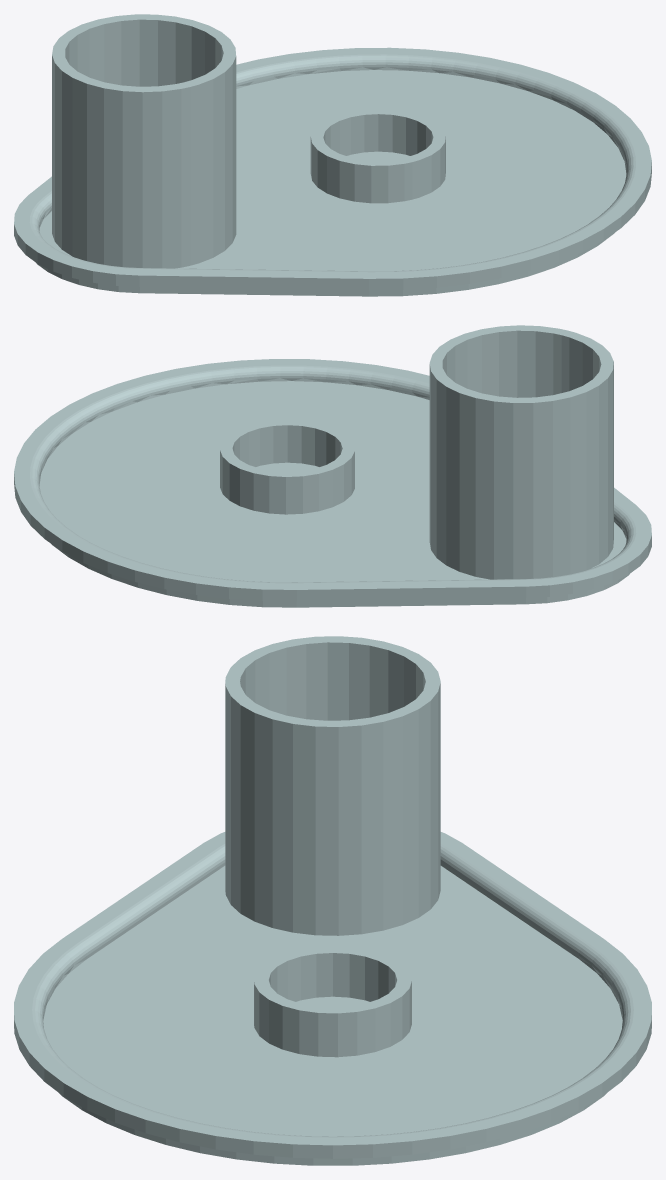
The model's file is caja.glb.
3 views of the same model, one above another, from view 1: azimuth 30°, elevation 25°; view 2: azimuth 150°, elevation 25°; view 3: azimuth 270°, elevation 25° (orthographic). The views are drawn at different scales.
Visible parts, largest first — view 1: caja de engranaje; view 2: caja de engranaje; view 3: caja de engranaje.
Boxes of the visible parts, x1,y1,x2,y2 form: caja de engranaje: (14,14,651,296); caja de engranaje: (14,325,651,607); caja de engranaje: (14,636,651,1165).
Size of the model in its own units: 0.1059 by 0.033 by 0.0859.
